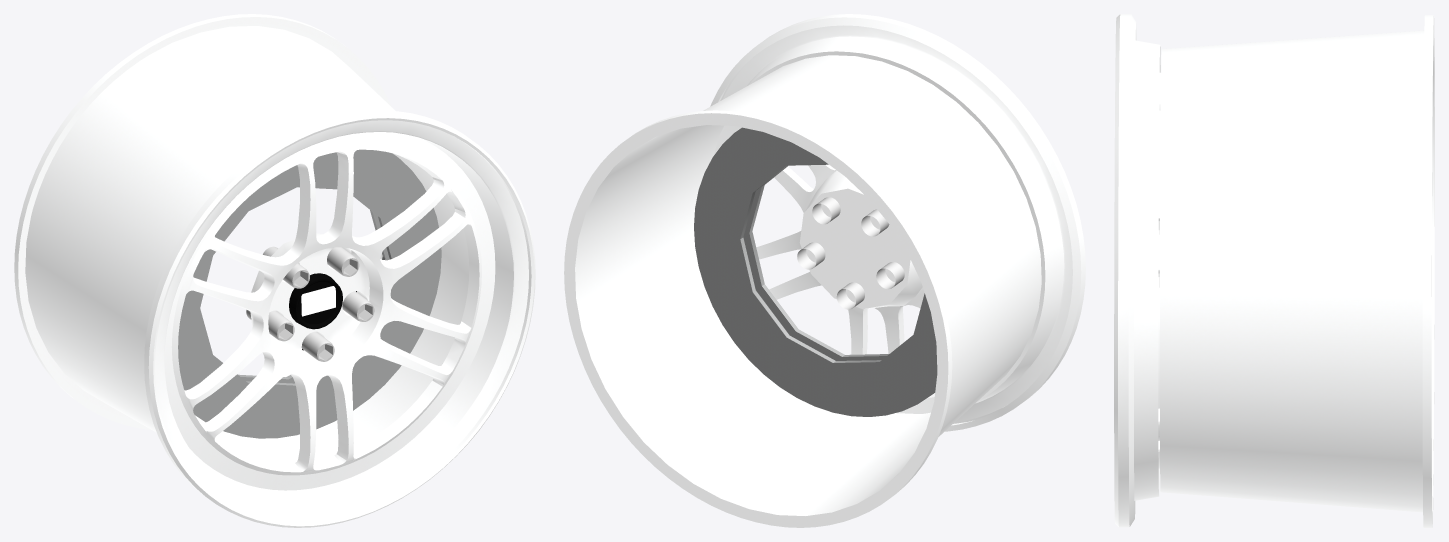
Rendered from enkei-rpf1.glb.
The picture shows the model from 3 angles, left to right: view 1: azimuth 30°, elevation 25°; view 2: azimuth 150°, elevation 25°; view 3: azimuth 270°, elevation 25°; orthographic projection. The views are drawn at different scales.
Visible parts, largest first — view 1: Object_4, Object_7, Object_44, Object_42, Object_48; view 2: Object_4, Object_7, Object_44; view 3: Object_4.
Boxes of the visible parts, x1,y1,x2,y2 form: Object_4: (14,14,535,527); Object_7: (178,149,441,438); Object_44: (246,246,374,361); Object_42: (289,273,342,329); Object_48: (301,286,335,316); Object_4: (564,14,1085,527); Object_7: (694,127,937,416); Object_44: (797,197,904,309); Object_4: (1114,14,1434,527).
Bounding box in the file's own units: 0.406 × 0.4045 × 0.2527.
Materials: 6 (2 with a texture image).
